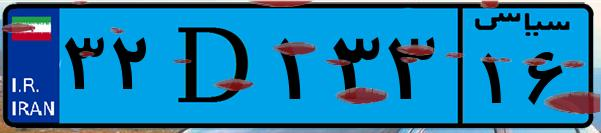1: (270, 28, 330, 110), (475, 38, 525, 113)
2: (110, 28, 158, 98)
3: (385, 28, 445, 110), (330, 28, 385, 110), (57, 26, 110, 100)
6: (525, 38, 570, 115)
D: (158, 12, 270, 120)
